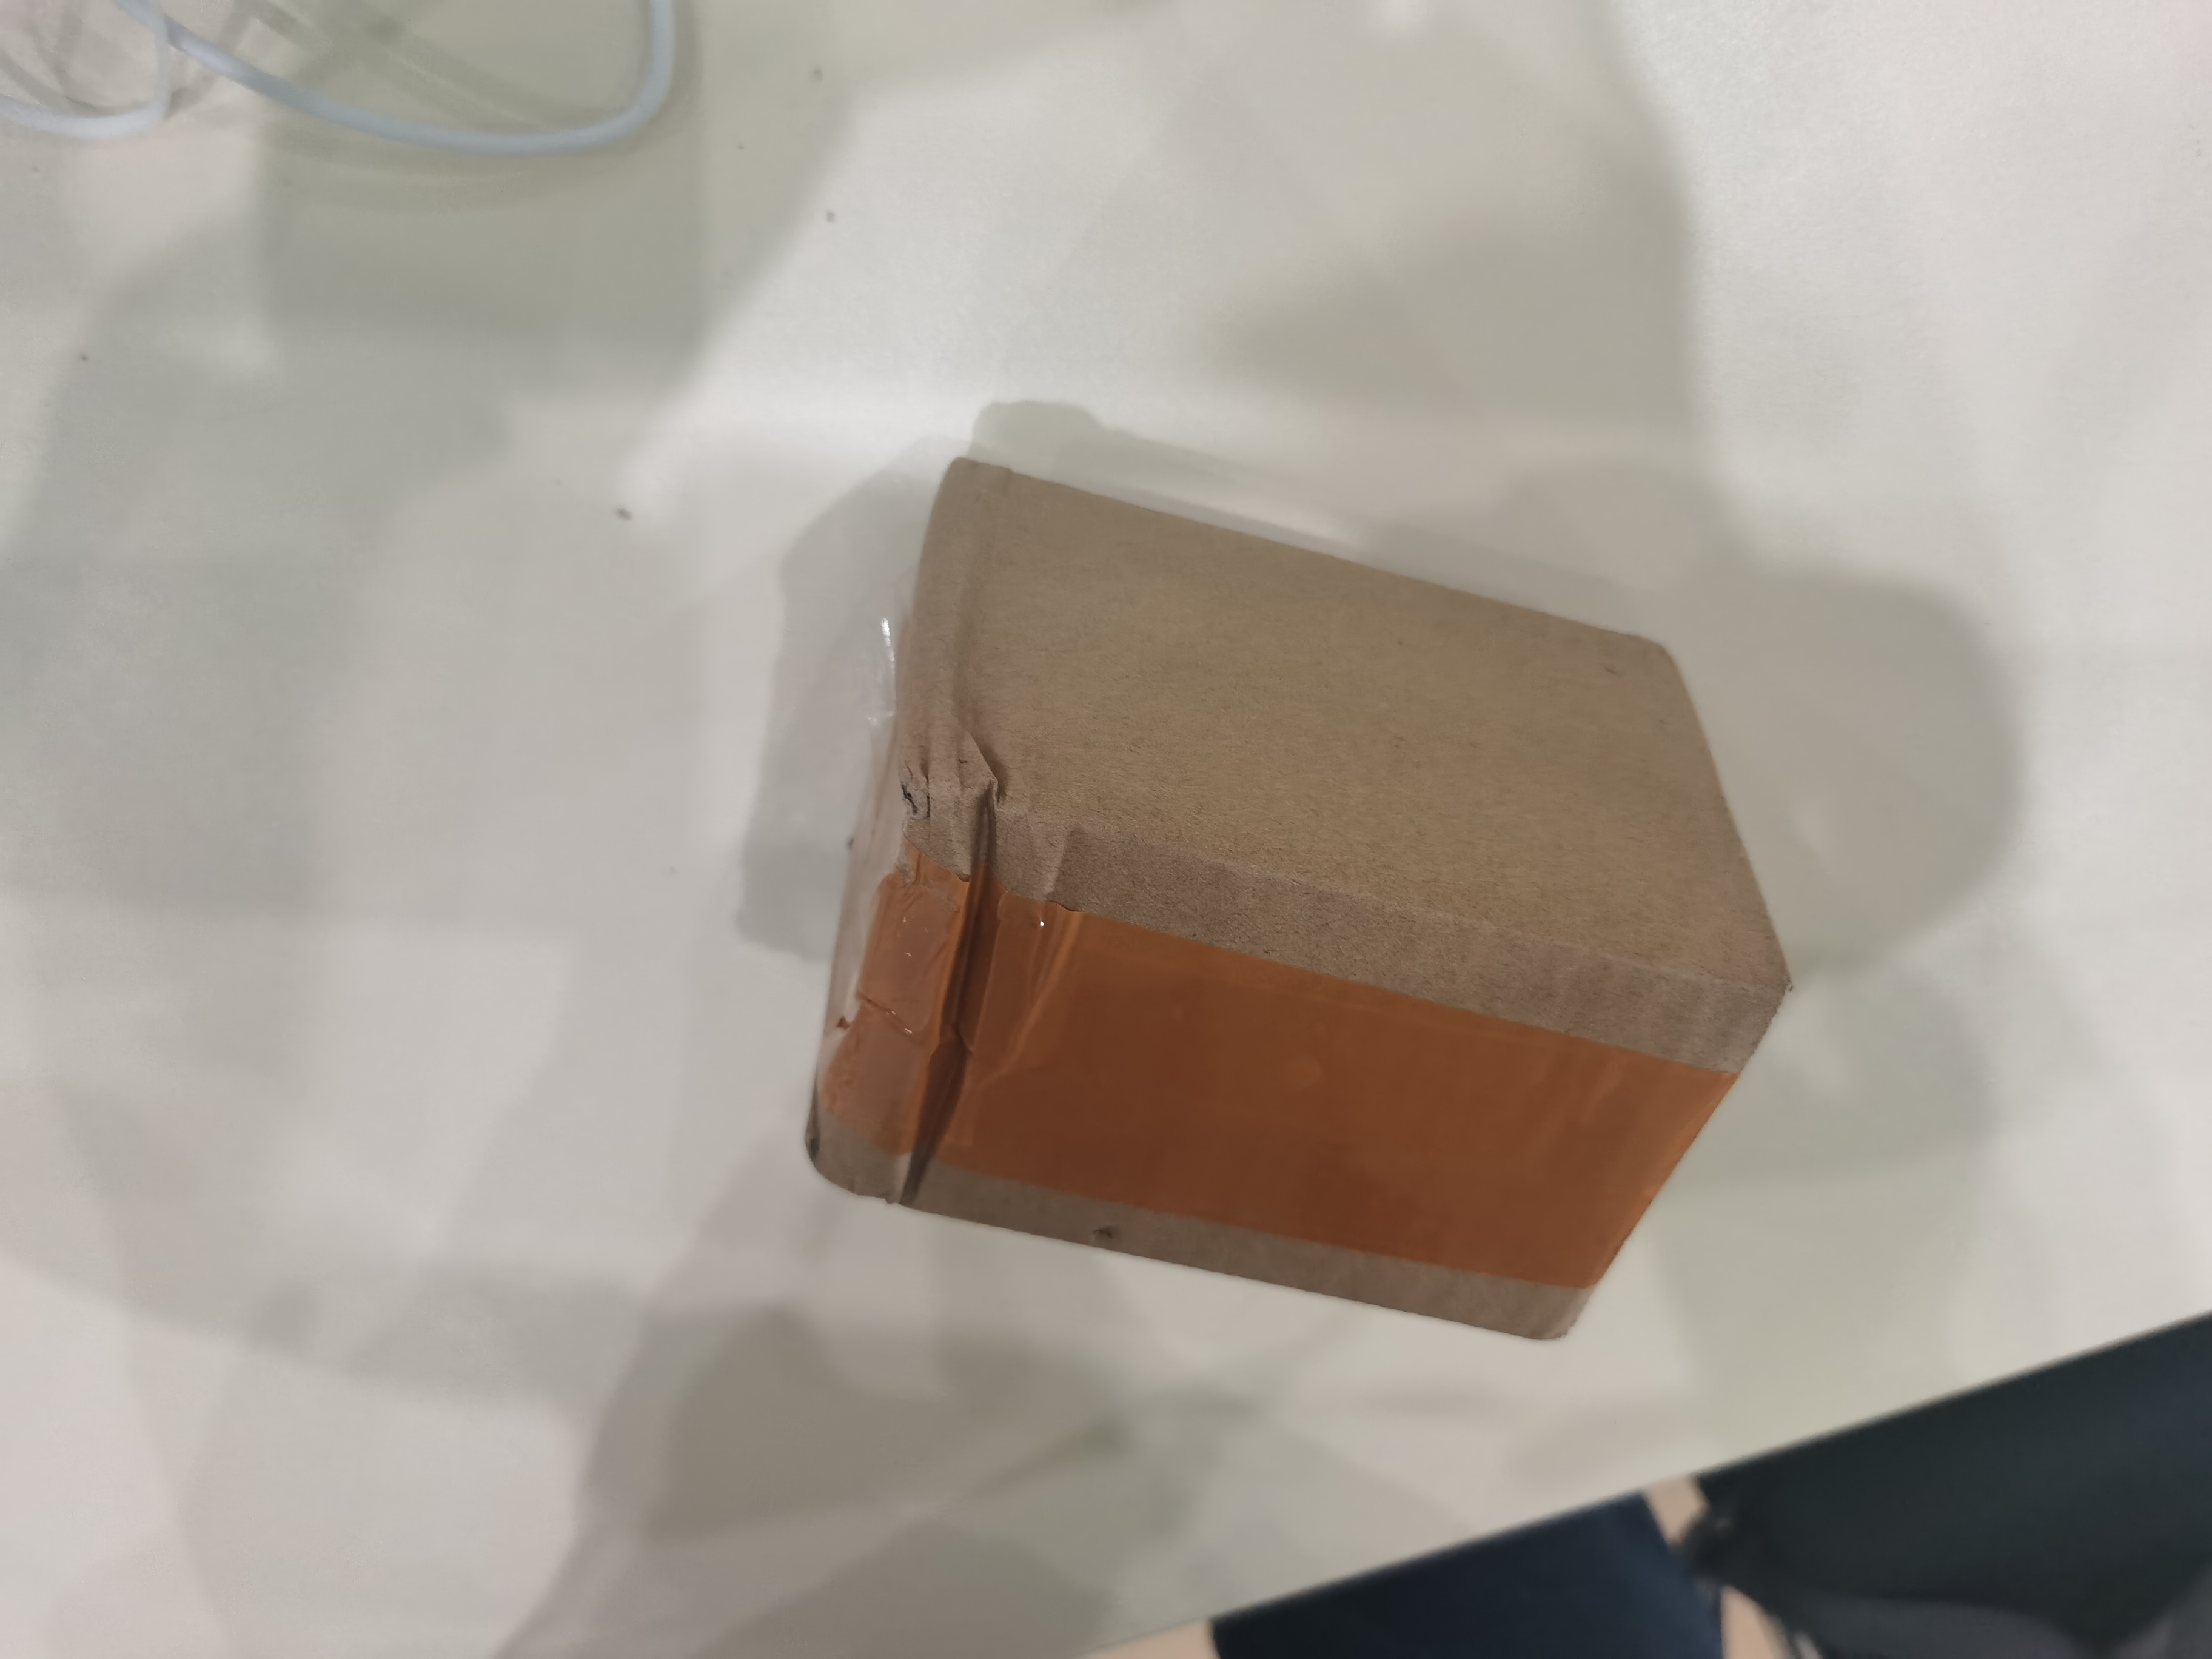box: (798, 451, 1799, 1366)
